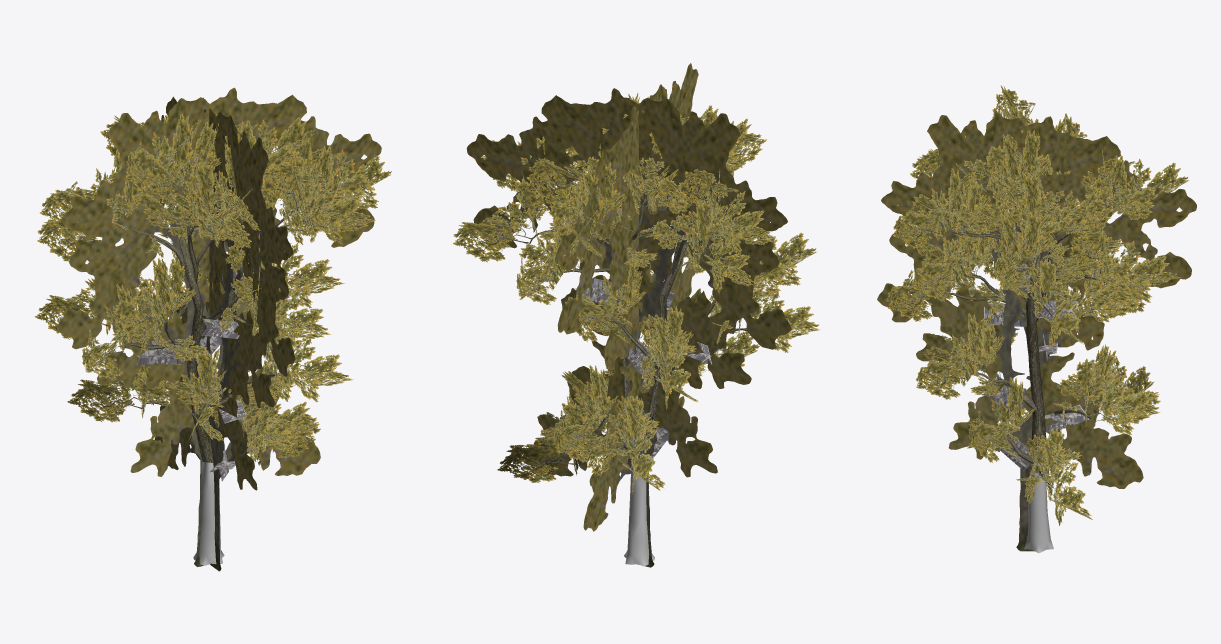
The model's file is Tree-Oak1B.fbx.
The picture shows the model from 3 angles, left to right: view 1: azimuth 30°, elevation 25°; view 2: azimuth 150°, elevation 25°; view 3: azimuth 270°, elevation 25°; orthographic projection. The views are drawn at different scales.
Visible parts, largest first — view 1: Tree-Oak1B_LOD0, Billboard-Oak1B; view 2: Billboard-Oak1B, Tree-Oak1B_LOD0; view 3: Tree-Oak1B_LOD0, Billboard-Oak1B.
Part boxes in pixels (x1=…): Tree-Oak1B_LOD0: x1=34, y1=113, x2=391, y2=565; Billboard-Oak1B: x1=57, y1=87, x2=381, y2=571; Billboard-Oak1B: x1=466, y1=63, x2=791, y2=567; Tree-Oak1B_LOD0: x1=453, y1=93, x2=820, y2=566; Tree-Oak1B_LOD0: x1=886, y1=85, x2=1189, y2=553; Billboard-Oak1B: x1=877, y1=114, x2=1196, y2=551.
Size of what is drawn, in the model's own units: 1929 by 2549 by 1664.
